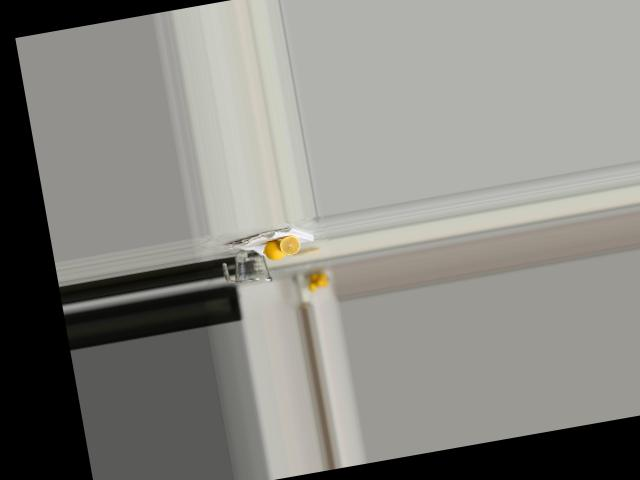lemon: (260, 238, 289, 263)
